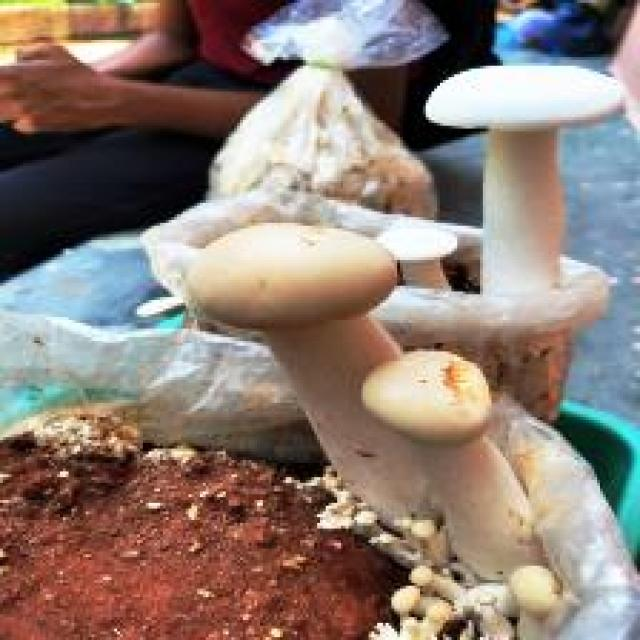chanterelle: (180, 217, 637, 637)
